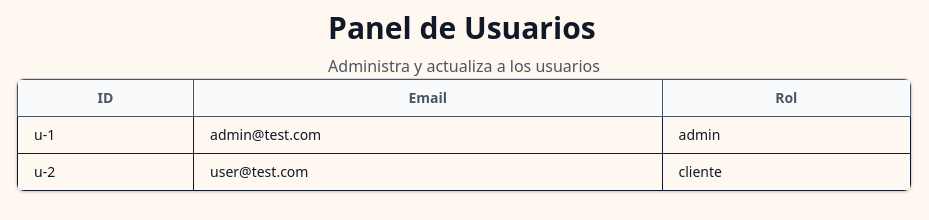
UsuariosTable › edicion inline › doble clic en email abre input
Double-click the text "admin@test.com" at (428, 135), box [194, 116, 662, 154]
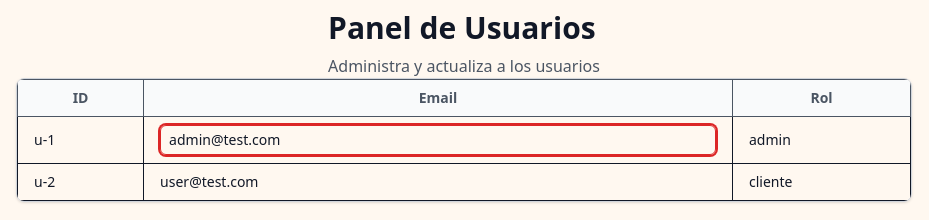
Expected: the field holds "admin@test.com", [160, 125, 716, 155]
